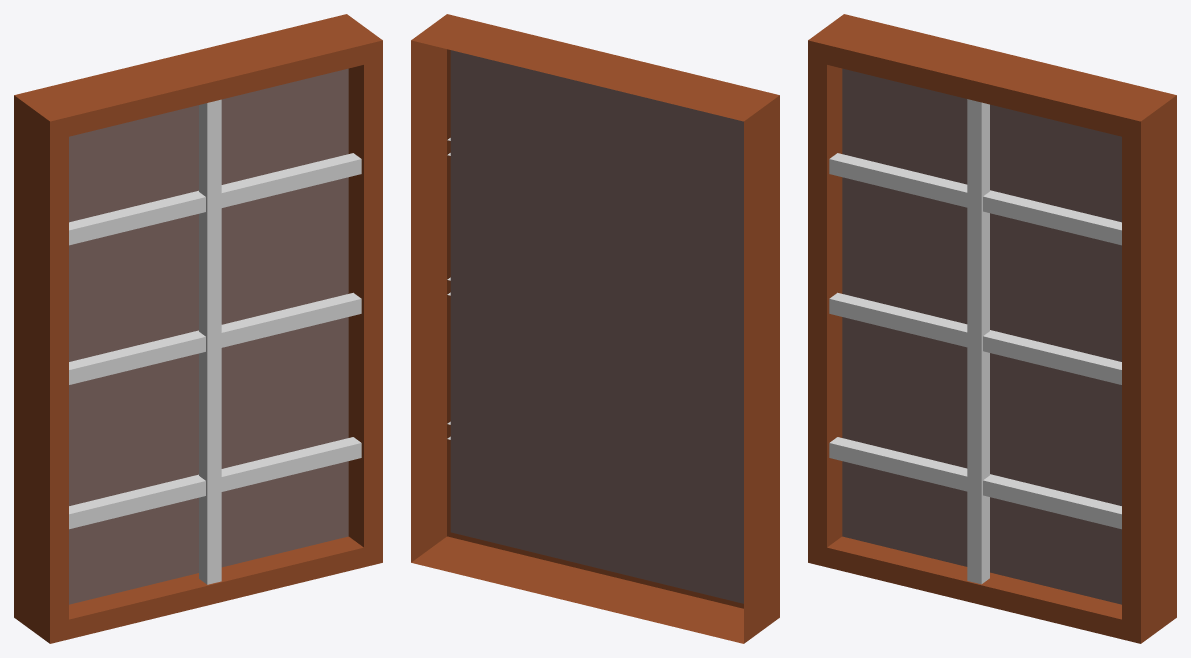
Rendered from WINDOWS.fbx.
3 renders of one model, left to right at view 1: azimuth 30°, elevation 25°; view 2: azimuth 150°, elevation 25°; view 3: azimuth 330°, elevation 25°, orthographic.
Visible parts, largest first — view 1: Plane:003; view 2: Plane:003; view 3: Plane:003.
Part boxes in pixels (box(x1,y1,x2,y2)): Plane:003: box(14, 14, 382, 643); Plane:003: box(411, 14, 779, 643); Plane:003: box(808, 14, 1176, 643).
Size of the model in its own units: 95.51 by 143 by 17.92.
